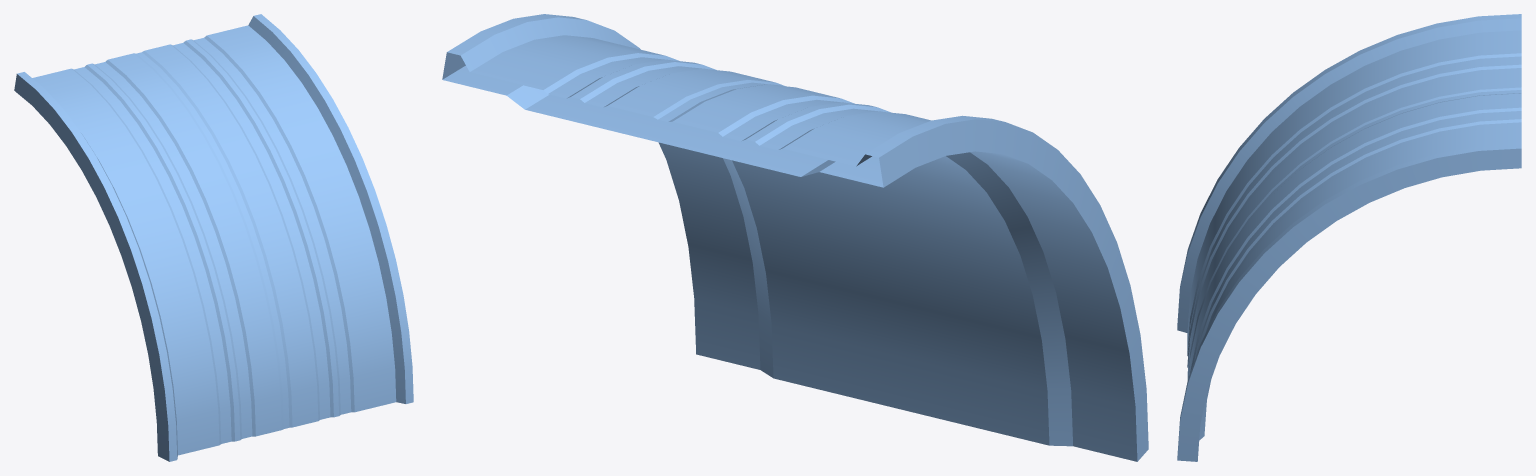
The model's file is Race-Circuit_05.FBX.
The picture shows the model from 3 angles, left to right: view 1: azimuth 30°, elevation 25°; view 2: azimuth 150°, elevation 25°; view 3: azimuth 270°, elevation 25°; orthographic projection. The views are drawn at different scales.
Parts seen in each view (by area): view 1: Race-Circuit_05; view 2: Race-Circuit_05; view 3: Race-Circuit_05.
Boxes of the visible parts, <box> form: Race-Circuit_05: <box>14,14,413,461</box>; Race-Circuit_05: <box>442,14,1148,461</box>; Race-Circuit_05: <box>1177,14,1521,461</box>.
Size of the model in its own units: 961 by 1018 by 1018.
